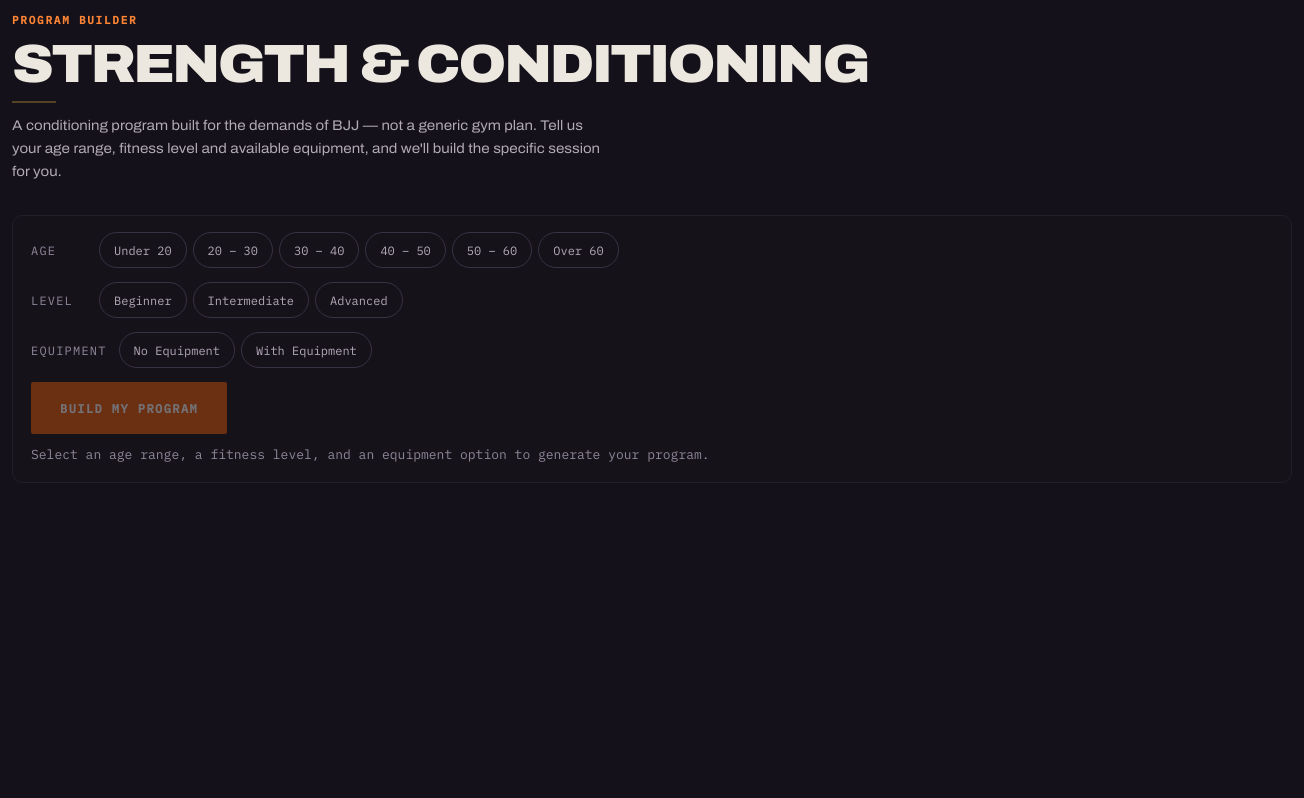
Test: the rest clock does not run after the final set
This screenshot has width=1304, height=798.
Click the button "20 – 30": click(233, 250) [193, 232, 273, 268]
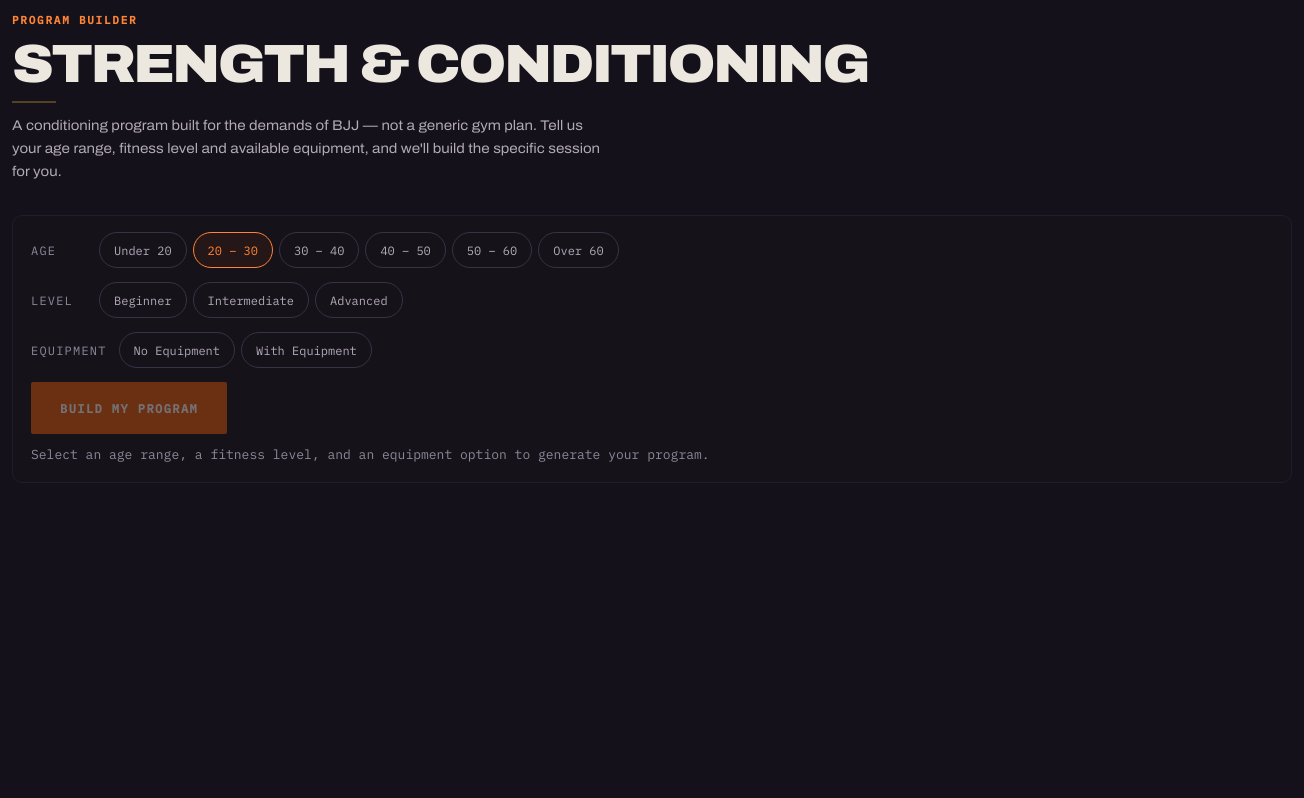
Click the button "Beginner": click(143, 300) [99, 282, 187, 318]
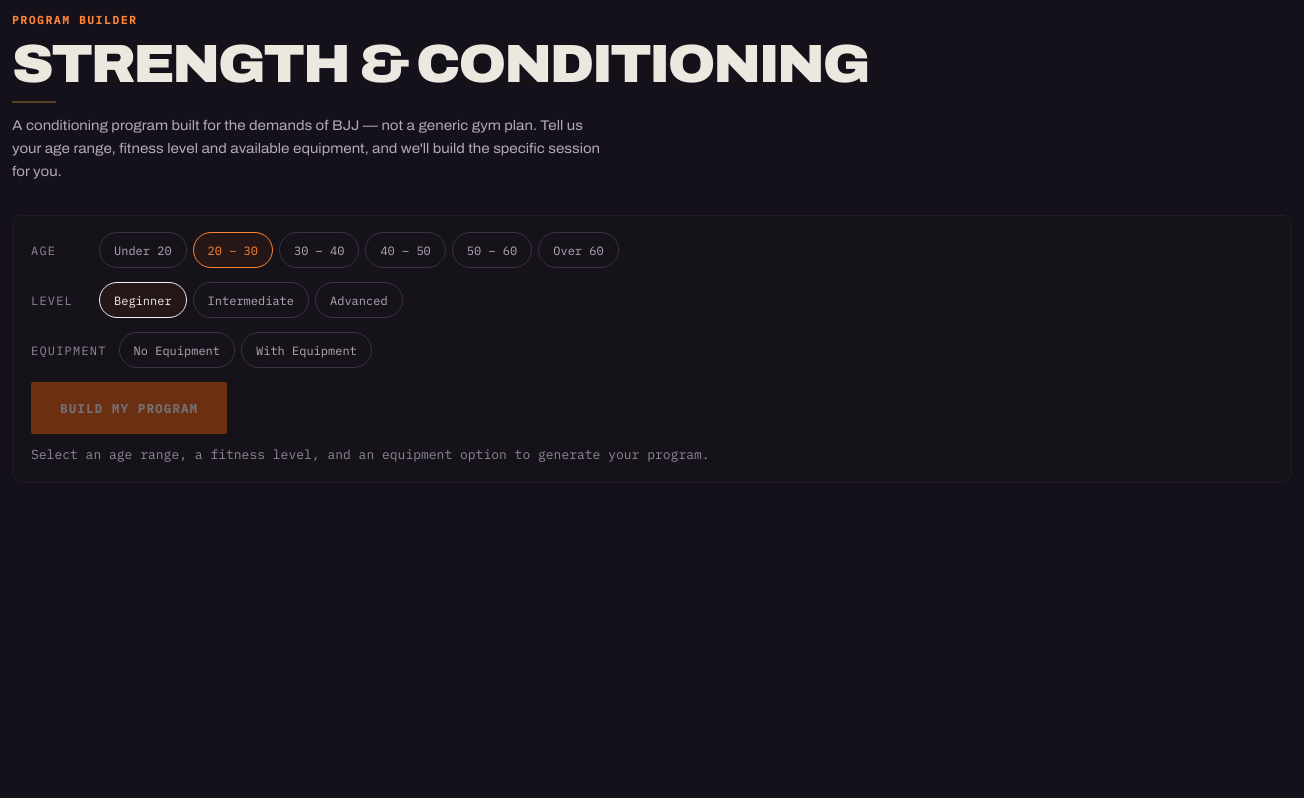
Click the button "No Equipment": click(177, 350) [119, 332, 235, 368]
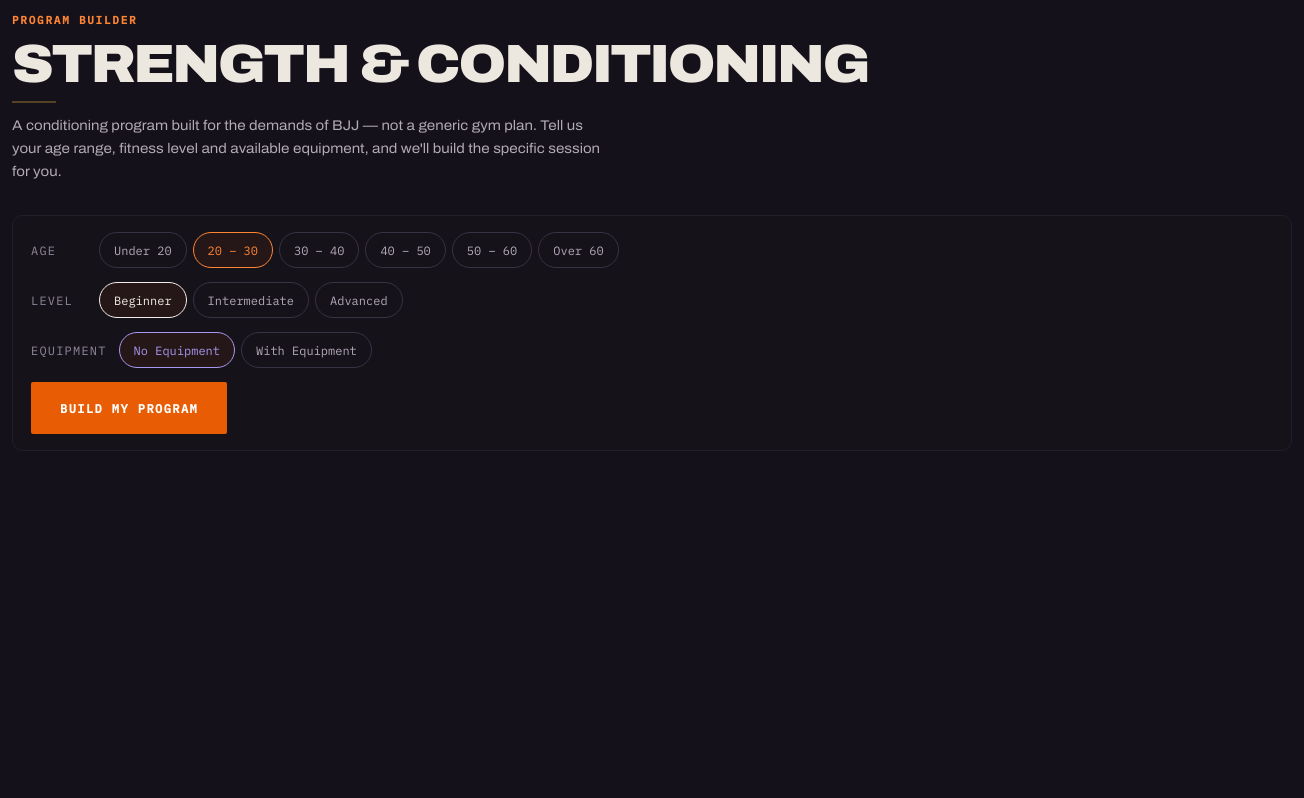
Click the button "Build My Program": click(129, 408) [31, 382, 227, 434]
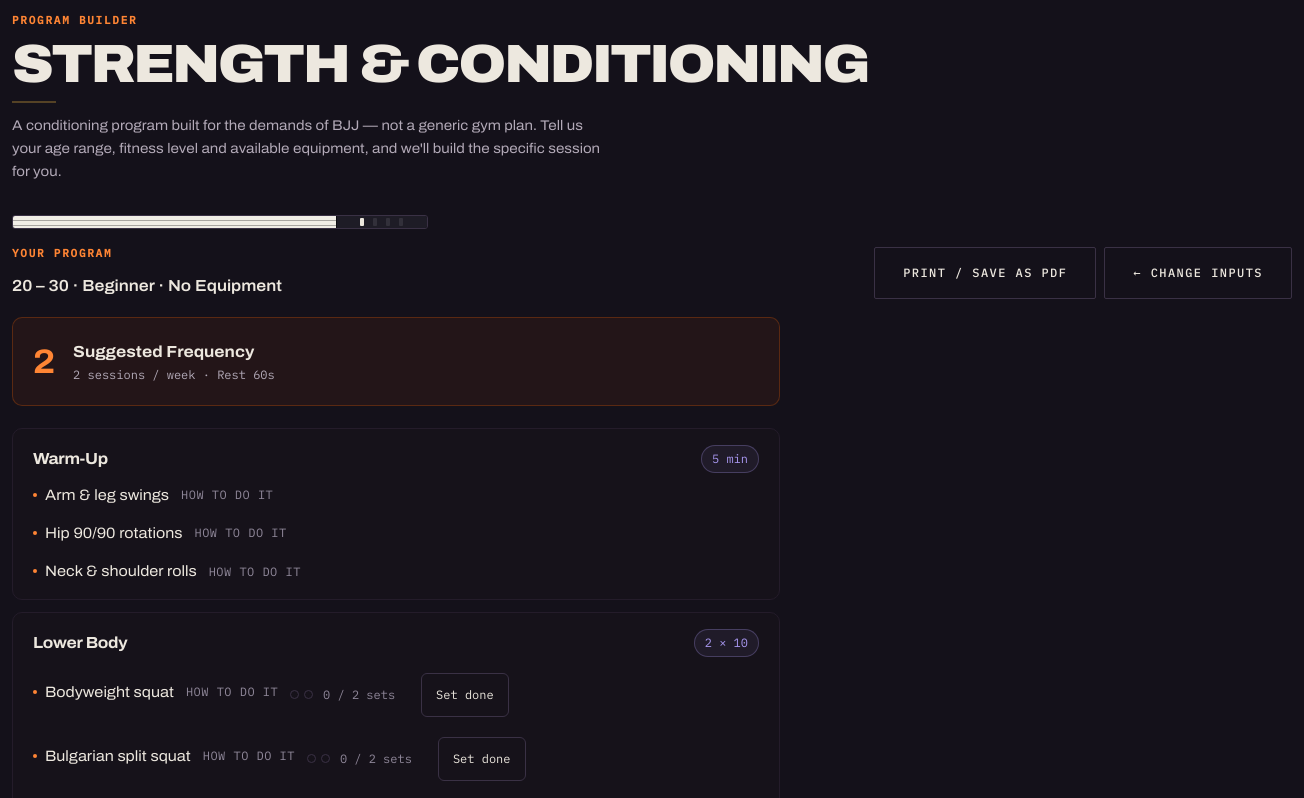
Click the button with class "tracker__btn" in the row of "Bodyweight squat": click(465, 695) [421, 673, 509, 717]
Wait 60000 ms
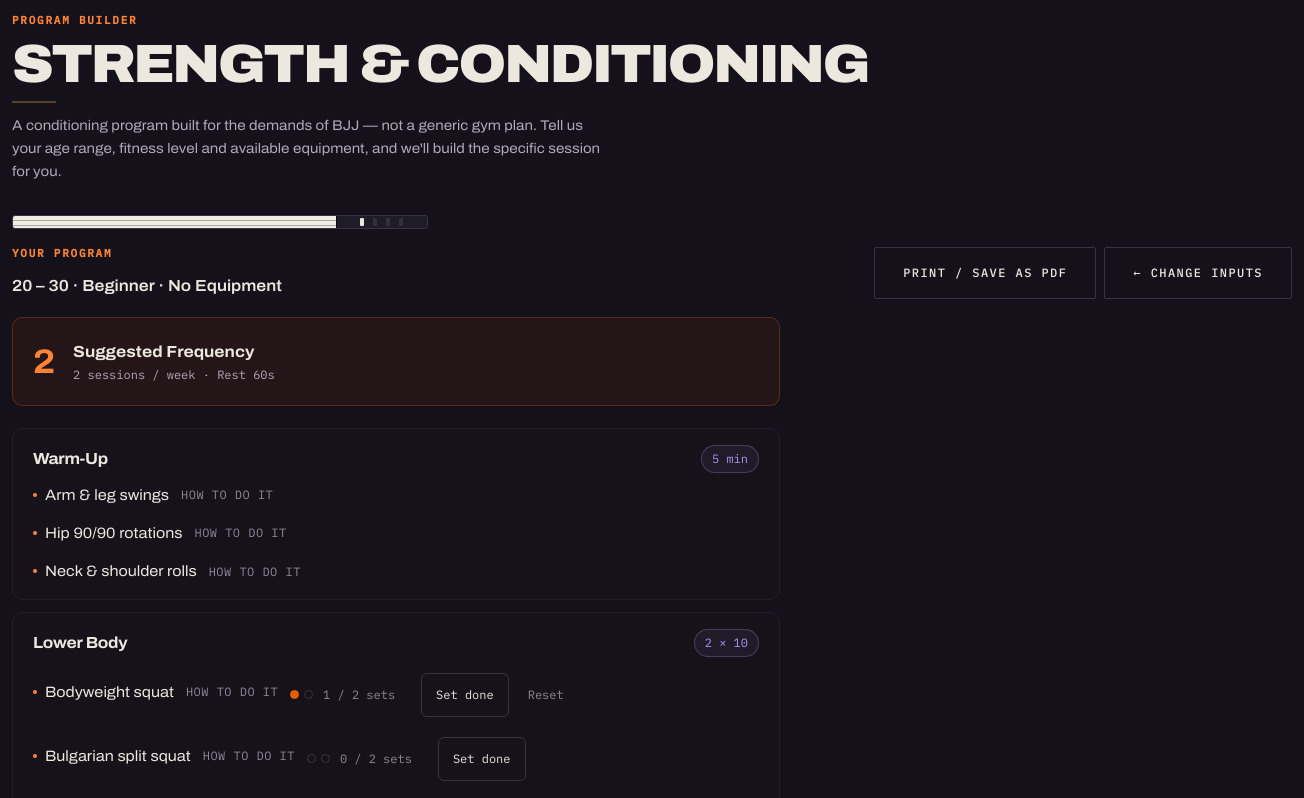
Click the button with class "tracker__btn" next to "1 / 2 sets": click(465, 695) [421, 673, 509, 717]
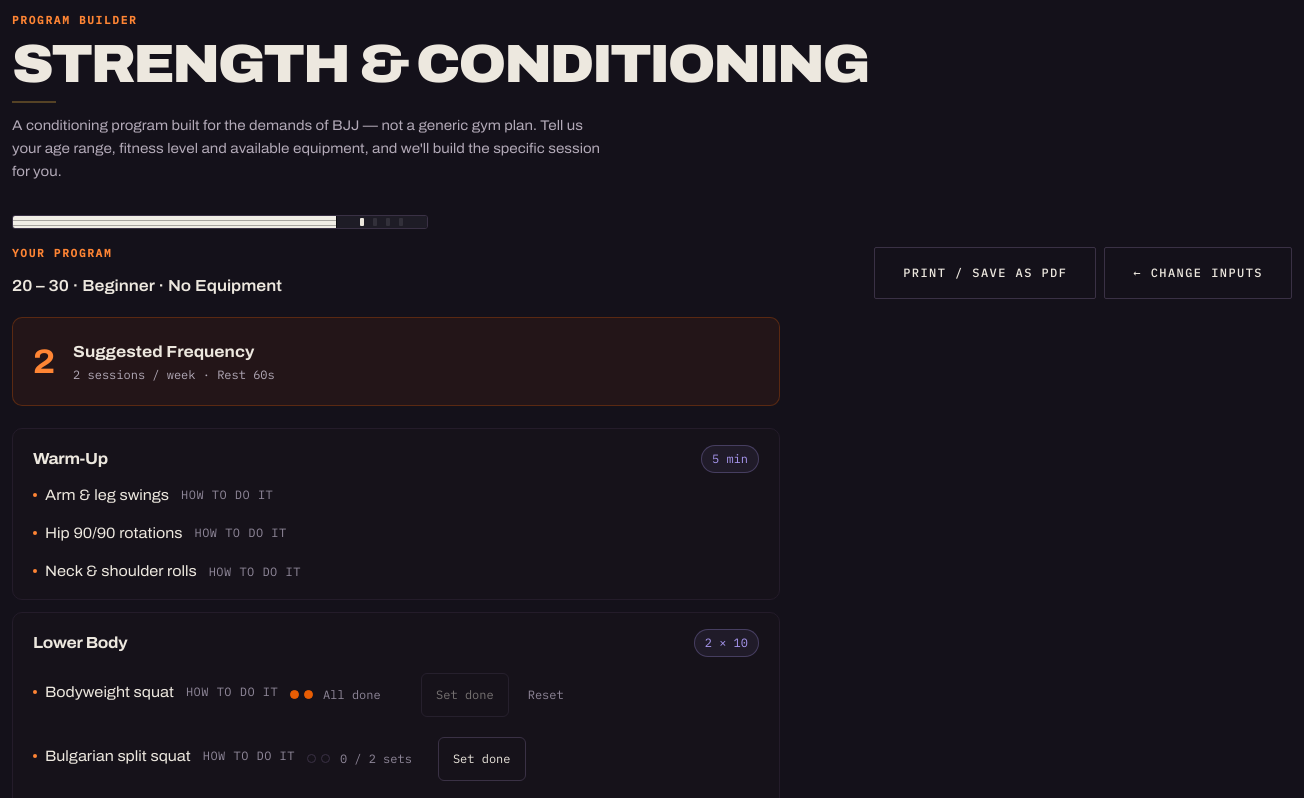
Now the text with class "tracker__status" reads "All done", box [323, 687, 381, 702]
